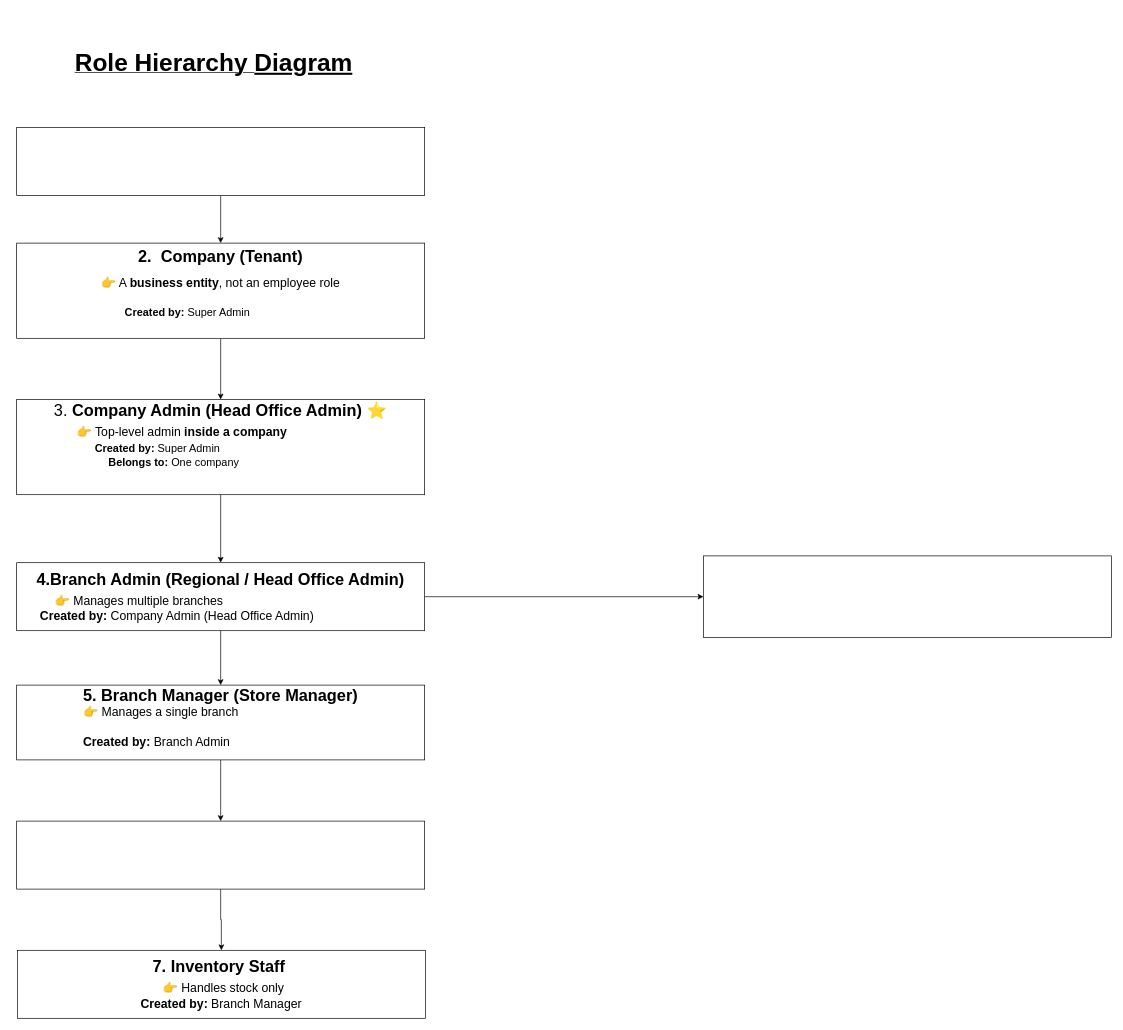
Image size: 1123x1030. Some labels were removed from this diagram. Here are the shapes that lost their labels. From the top down, the centre of each, then its label:
At pixel 220 161: "1.Super Admin (Platform Owner) 👉 Highest authority (Company / SaaS owner)".
At pixel 907 596: "4.1. Accountant 👉 Financial overview role Created by: Branch Admin".
At pixel 220 854: "6. Cashier / Sales Executive 👉 Operates POS counter Created by: Branch Manager".
